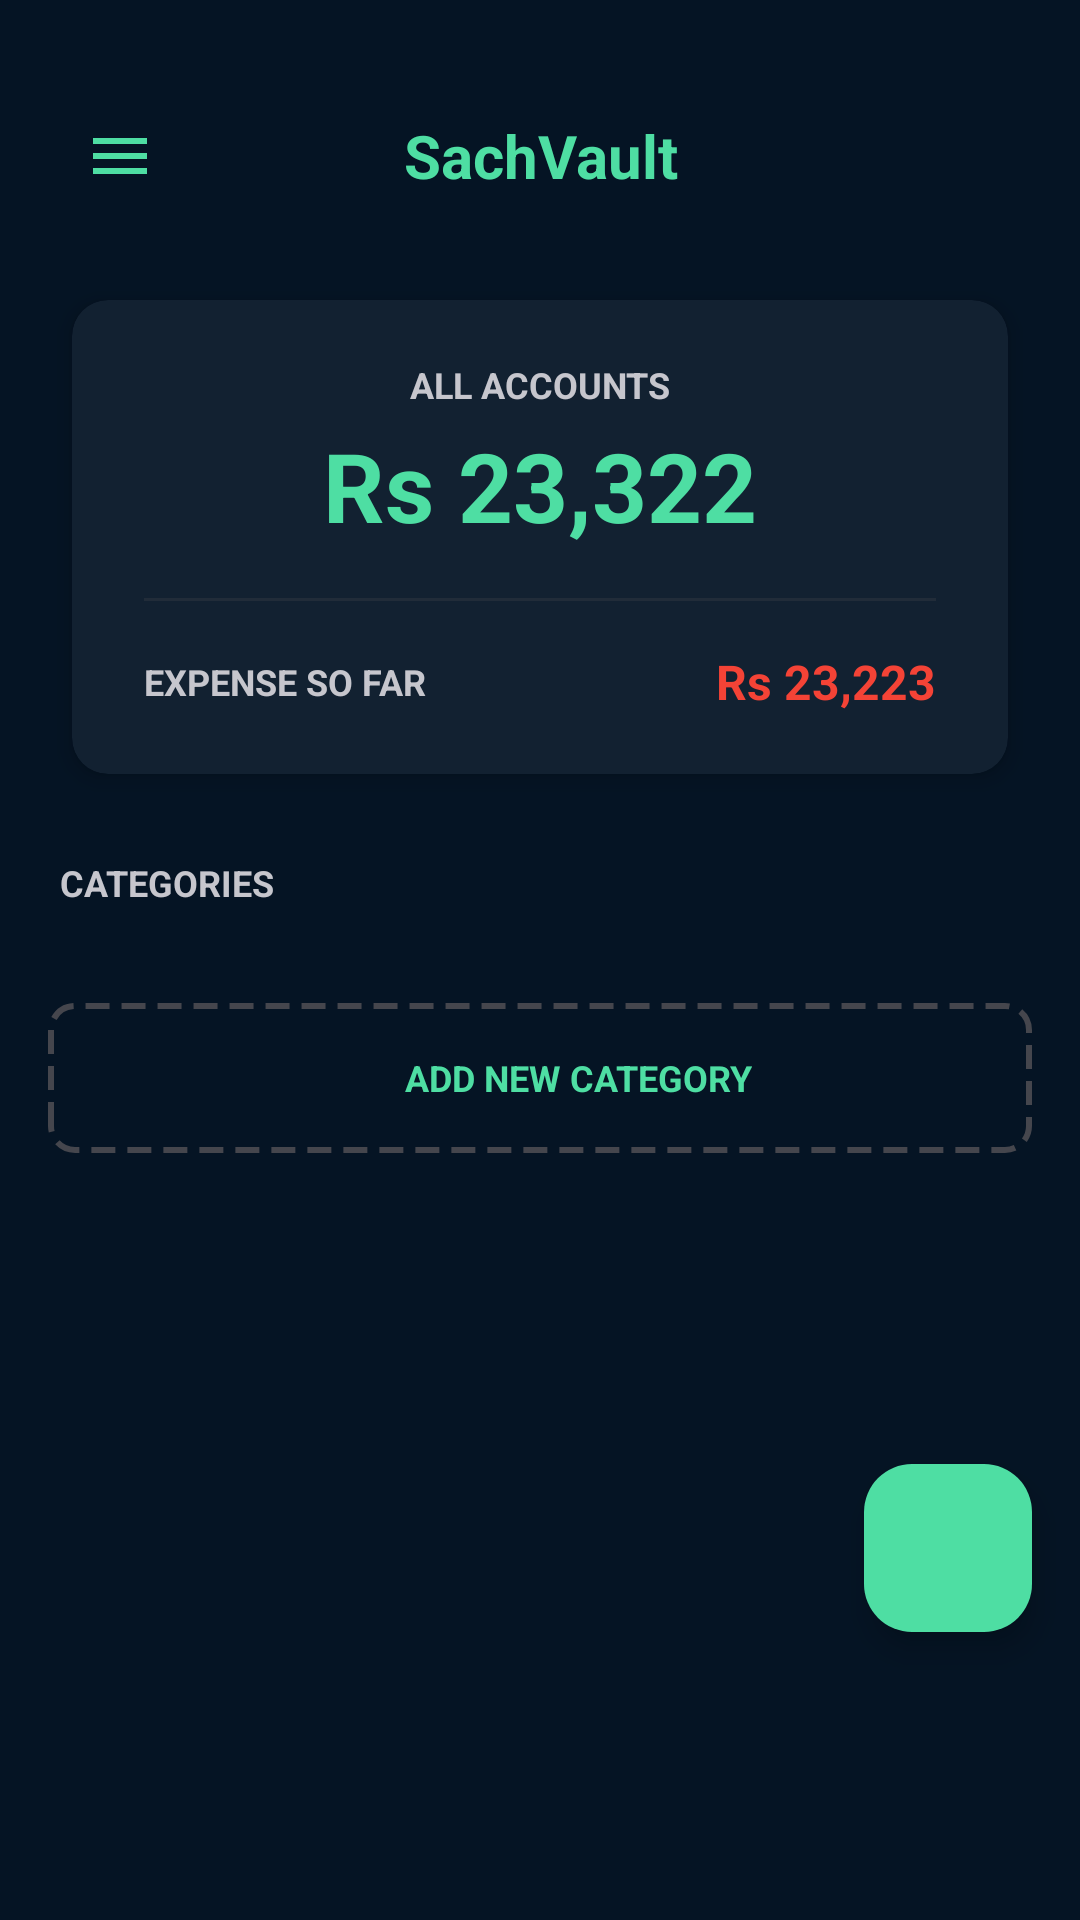

Screen size 1080px x 1920px. Icon name, then its center in pixels as point (x, y):
Menu: point (120, 156)
